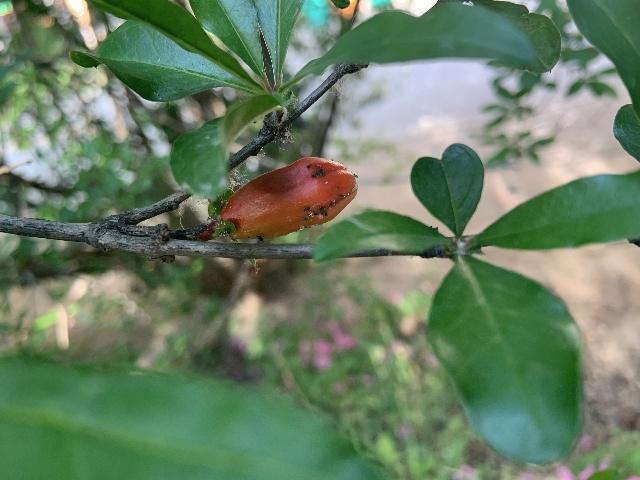bud: (221, 156, 357, 240)
